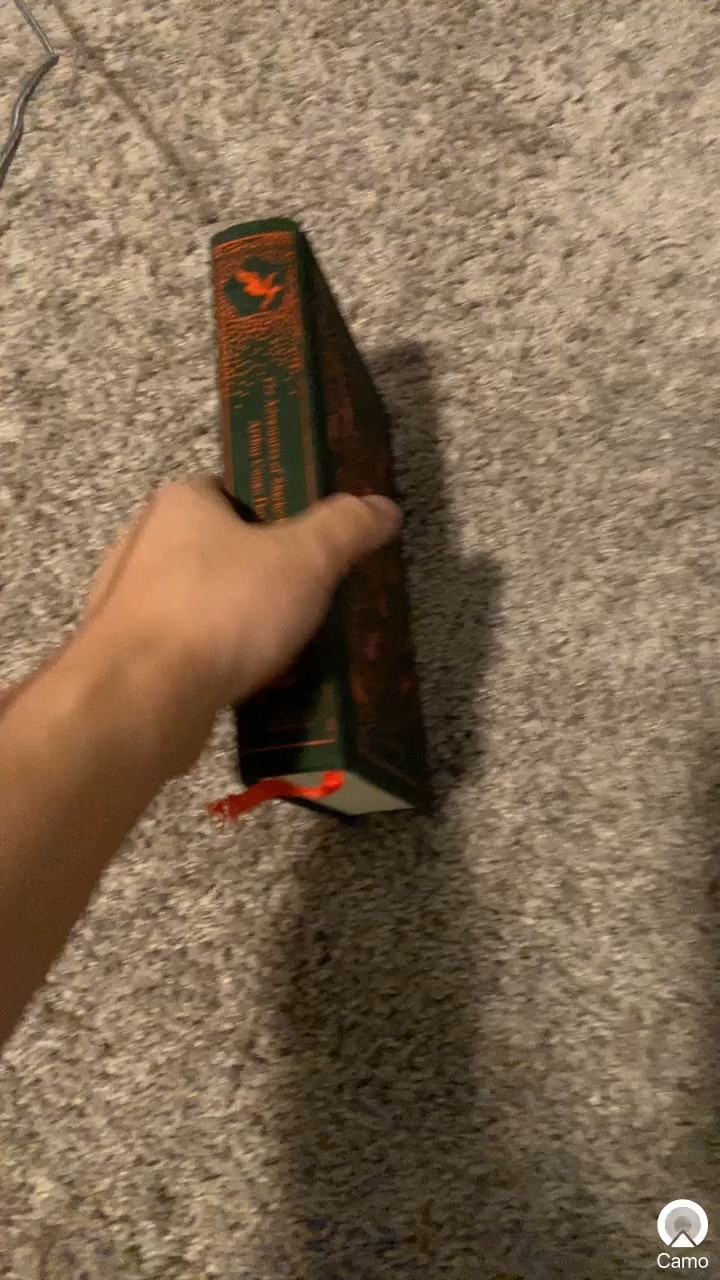Book: (164, 197, 473, 870)
